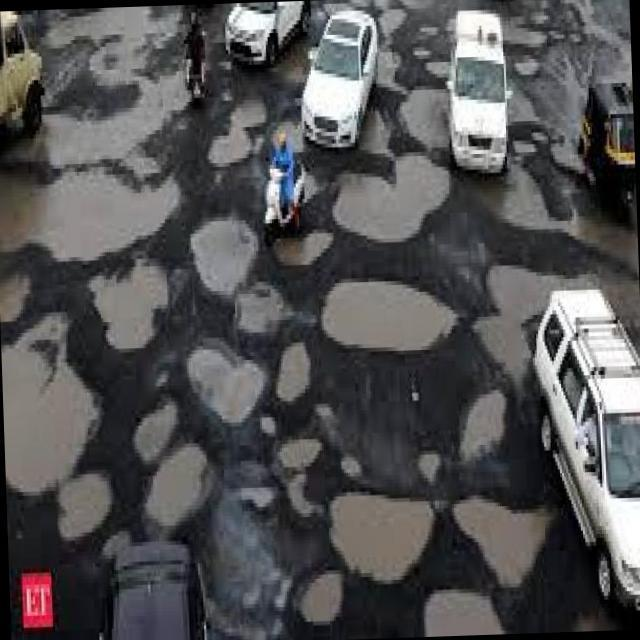Pothole: (0, 5, 187, 264), (0, 319, 96, 499), (322, 277, 468, 353), (332, 155, 451, 241), (329, 494, 434, 584), (453, 499, 549, 587), (183, 340, 264, 426), (150, 446, 204, 525)
